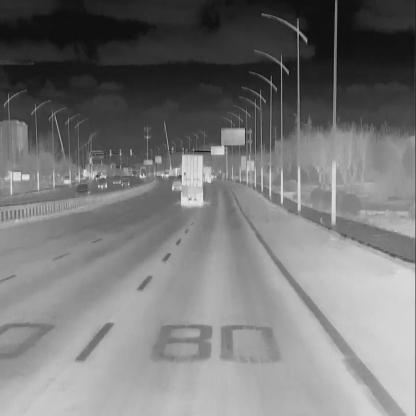car: (74, 182, 92, 200), (171, 176, 182, 193), (96, 176, 108, 190), (119, 176, 130, 188), (95, 170, 106, 181), (111, 174, 122, 185)
truck: (180, 152, 205, 209), (202, 164, 212, 184), (122, 165, 134, 177), (139, 164, 148, 179)
